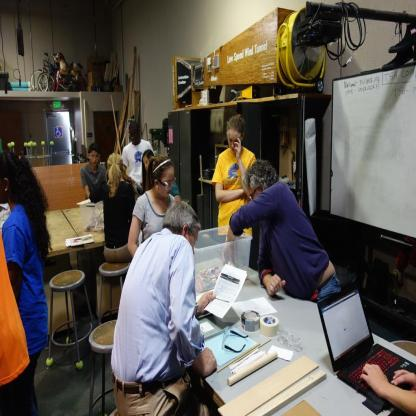board: (316, 286, 416, 416)
